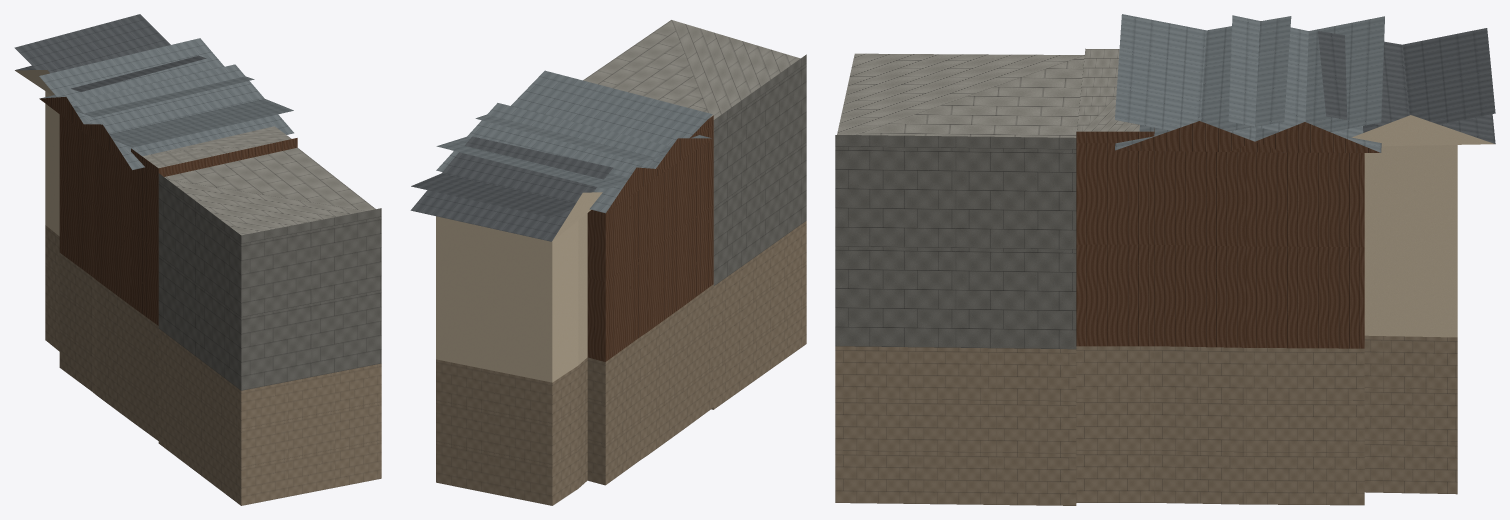
The model's file is bld_c8_25_418.gltf.
3 views of the same model, side by side, from view 1: azimuth 30°, elevation 25°; view 2: azimuth 150°, elevation 25°; view 3: azimuth 270°, elevation 25° (orthographic). The views are drawn at different scales.
Parts seen in each view (by area): view 1: bld_c8_25_418; view 2: bld_c8_25_418; view 3: bld_c8_25_418.
Boxes of the visible parts, x1,y1,x2,y2 form: bld_c8_25_418: (14, 14, 381, 505); bld_c8_25_418: (410, 20, 806, 505); bld_c8_25_418: (835, 14, 1495, 505).
Size of the model in its own units: 7.56 by 12.8 by 19.47.
10 materials, 10 textured.
